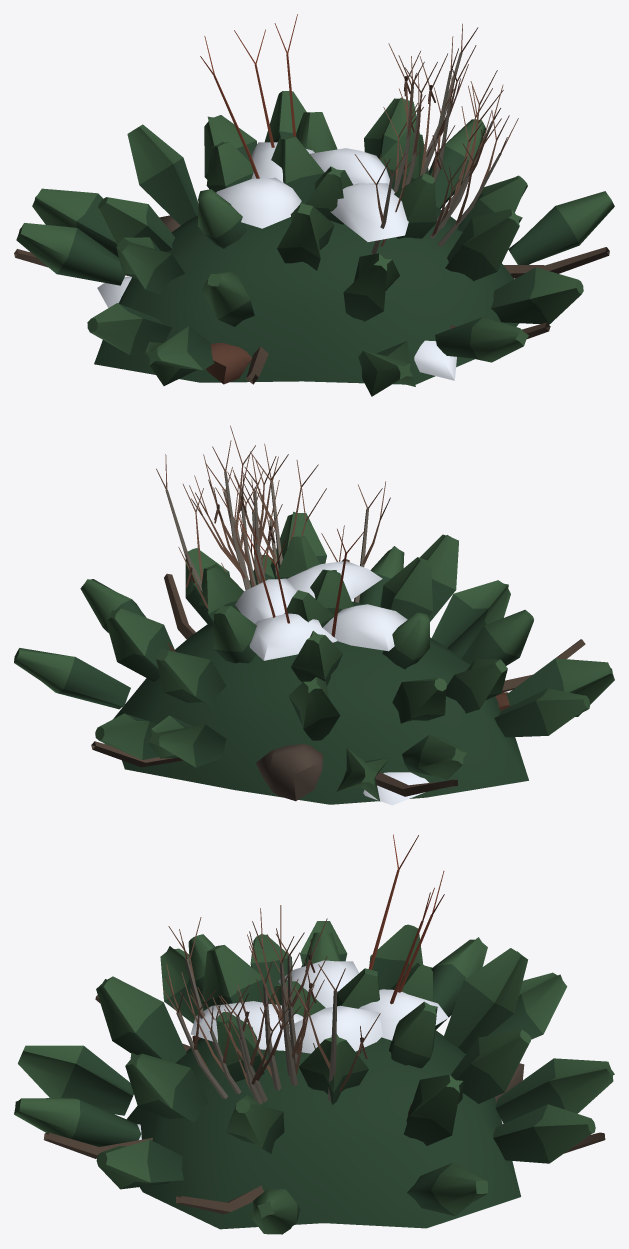
The model's file is alpine-shrubs.glb.
3 views of the same model, one above another, from view 1: azimuth 30°, elevation 25°; view 2: azimuth 150°, elevation 25°; view 3: azimuth 270°, elevation 25° (orthographic). The views are drawn at different scales.
Visible parts, largest first — view 1: shrub_mountainPine, shrub_alderScrub, plant_heath; view 2: shrub_mountainPine, shrub_alderScrub, plant_heath; view 3: shrub_mountainPine, shrub_alderScrub.
Part boxes in pixels (x1=…): shrub_mountainPine: x1=14, y1=91, x2=614, y2=396; shrub_alderScrub: x1=200, y1=14, x2=518, y2=253; plant_heath: x1=97, y1=154, x2=456, y2=384; shrub_mountainPine: x1=14, y1=511, x2=614, y2=804; shrub_alderScrub: x1=156, y1=425, x2=390, y2=643; plant_heath: x1=167, y1=642, x2=509, y2=805; shrub_mountainPine: x1=14, y1=921, x2=614, y2=1234; shrub_alderScrub: x1=163, y1=834, x2=444, y2=1104.
Bounding box in the file's own units: 2.22 × 1.09 × 2.08.
